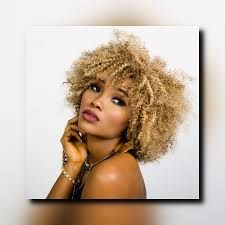no-mask: (66, 58, 154, 144)
